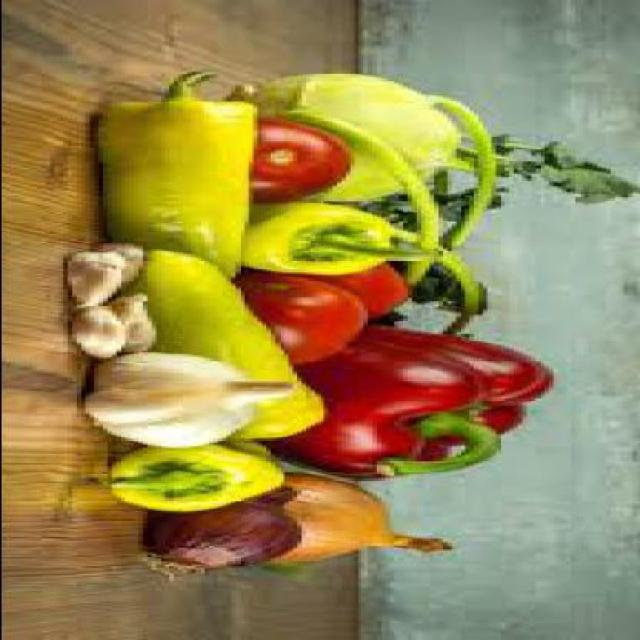BIODEGRADABLE: (225, 72, 508, 337), (265, 322, 557, 476), (132, 247, 331, 438), (225, 70, 502, 201), (102, 71, 264, 280), (84, 351, 296, 446), (278, 472, 454, 560), (79, 437, 292, 509), (250, 200, 442, 274), (142, 486, 304, 572), (229, 269, 371, 363), (458, 130, 638, 204), (256, 116, 353, 201), (287, 260, 415, 318), (61, 248, 128, 302), (66, 304, 132, 358), (114, 290, 164, 348), (93, 242, 145, 282)
